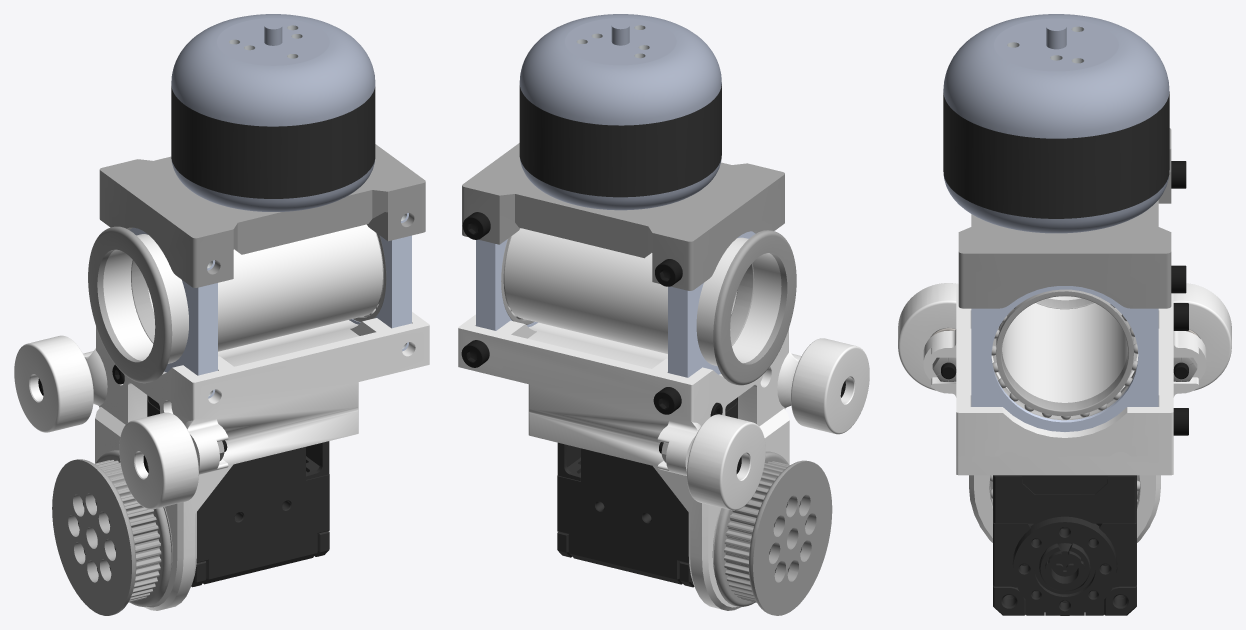
Rendered from gimbal1_link.dae.
The picture shows the model from 3 angles, left to right: view 1: azimuth 30°, elevation 25°; view 2: azimuth 150°, elevation 25°; view 3: azimuth 270°, elevation 25°; orthographic projection. The views are drawn at different scales.
Visible parts, largest first — view 1: node6, node8, node0, node1, node2, node5; view 2: node6, node8, node0, node1, node2, node4, node5; view 3: node0, node6, node1, node8, node2, node5, node4, node7.
Boxes of the visible parts, x1=… form: node6: x1=14, y1=224, x2=429, y2=610; node8: x1=52, y1=144, x2=425, y2=615; node0: x1=147, y1=86, x2=375, y2=587; node1: x1=171, y1=14, x2=375, y2=211; node2: x1=129, y1=213, x2=411, y2=398; node5: x1=131, y1=233, x2=386, y2=574; node6: x1=458, y1=228, x2=869, y2=610; node8: x1=462, y1=143, x2=832, y2=615; node0: x1=519, y1=84, x2=737, y2=587; node1: x1=519, y1=14, x2=721, y2=210; node2: x1=476, y1=231, x2=755, y2=377; node4: x1=461, y1=212, x2=845, y2=572; node5: x1=501, y1=236, x2=754, y2=577; node0: x1=943, y1=92, x2=1169, y2=615; node6: x1=898, y1=283, x2=1231, y2=542; node1: x1=943, y1=14, x2=1169, y2=233; node8: x1=958, y1=128, x2=1171, y2=496; node2: x1=971, y1=286, x2=1158, y2=431; node5: x1=989, y1=289, x2=1140, y2=505; node4: x1=941, y1=161, x2=1188, y2=435; node7: x1=932, y1=357, x2=1197, y2=381.
Bounding box in the file's own units: 0.074 × 0.066 × 0.1329.
